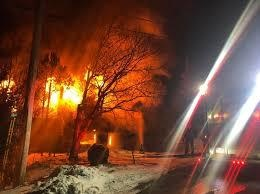fire: (40, 64, 107, 110)
